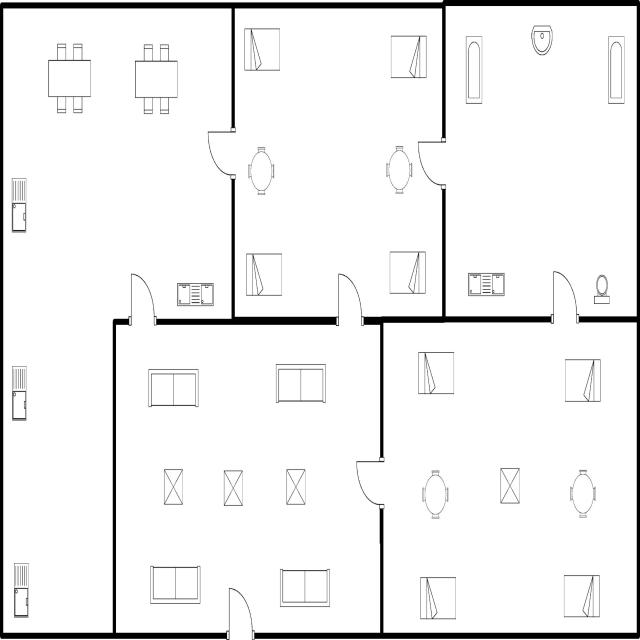bed: (413, 346, 459, 403), (560, 351, 604, 407), (244, 247, 286, 303), (417, 572, 461, 625), (388, 30, 430, 85), (561, 567, 602, 623), (240, 23, 284, 75), (386, 247, 428, 301)
coffee_table: (282, 462, 310, 513), (221, 462, 247, 515), (159, 465, 187, 512), (497, 462, 522, 512)
dining_table: (44, 34, 94, 121), (132, 38, 181, 118)
large_sink: (590, 270, 611, 312)
large_sofa: (272, 358, 330, 411), (144, 363, 201, 416), (147, 562, 206, 610)
round_table: (382, 139, 417, 204), (566, 463, 600, 525), (245, 139, 277, 204), (420, 465, 452, 524)
sink: (8, 360, 30, 426), (8, 172, 29, 239), (12, 555, 31, 622)
small_sink: (528, 20, 554, 60)
tub: (602, 28, 628, 112), (463, 31, 485, 111)
twin_sink: (174, 278, 217, 313), (465, 268, 506, 302)
